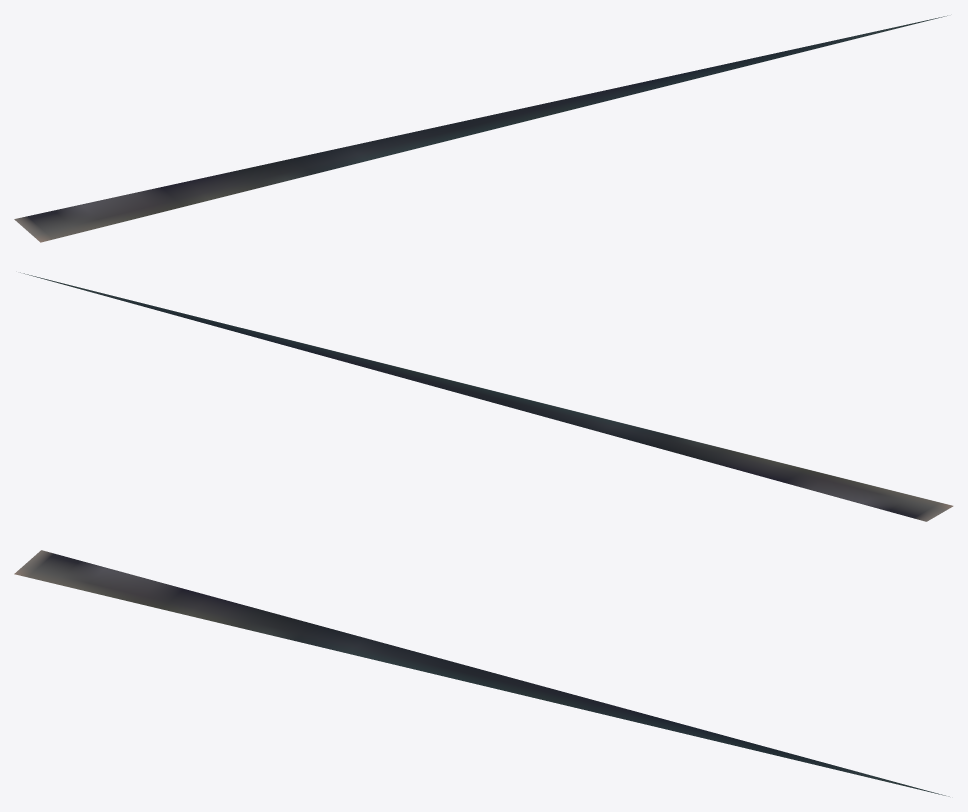
File: ID_7519768a-12aa-435a-bbd7-f487b99cc80f.gltf
3 views of the same model, one above another, from view 1: azimuth 30°, elevation 25°; view 2: azimuth 150°, elevation 25°; view 3: azimuth 330°, elevation 25° (orthographic). The views are drawn at different scales.
Parts seen in each view (by area): view 1: Z_UP; view 2: Z_UP; view 3: Z_UP.
Part boxes in pixels (x1,y1,x2,y2): Z_UP: (14, 15, 947, 242); Z_UP: (20, 272, 953, 521); Z_UP: (14, 550, 949, 796).
Bounding box in the file's own units: 17.15 × 0.0973 × 0.8646.
Materials: 1 (1 with a texture image).
